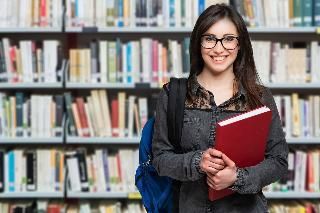person - v3 P: (152, 4, 288, 212)
